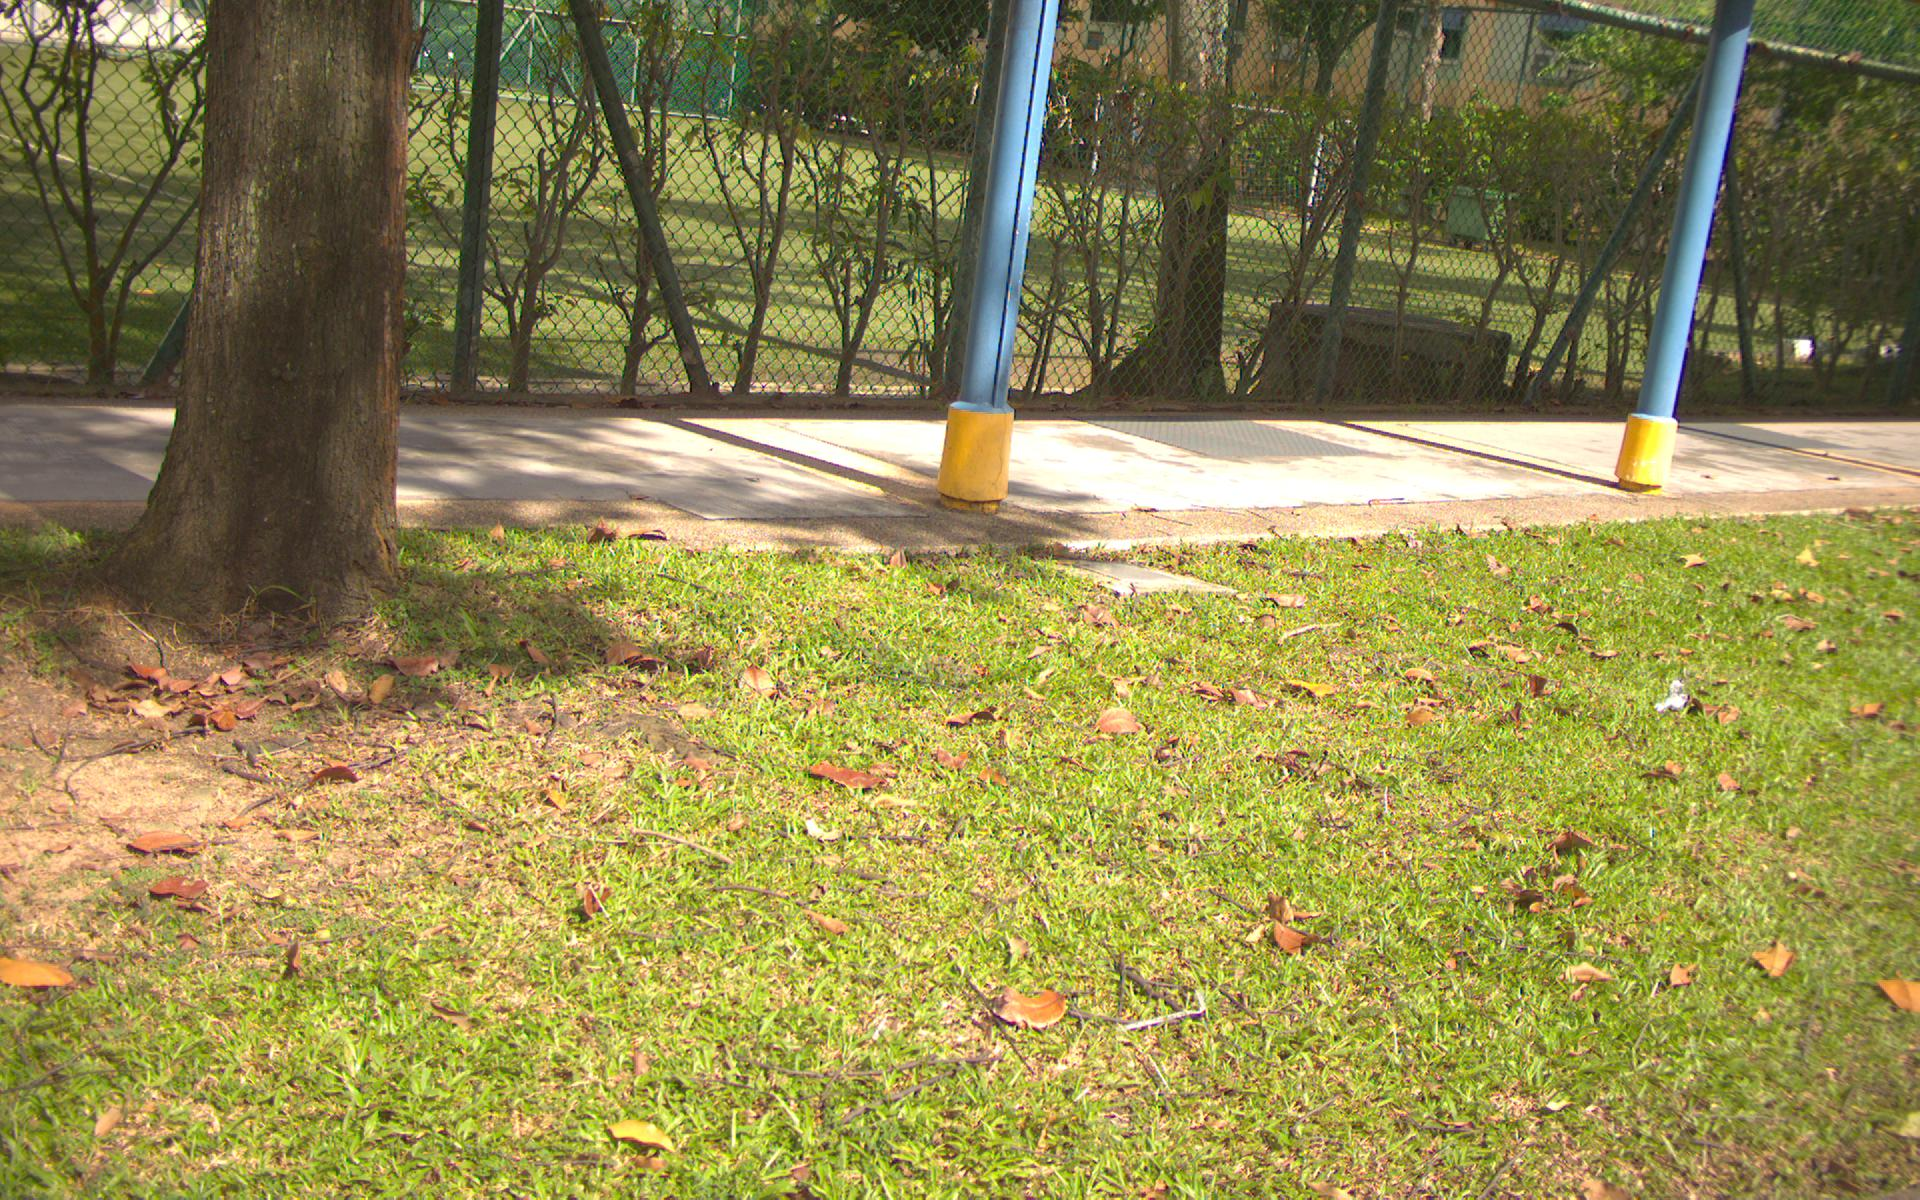pathway_low: (64, 422, 1920, 489)
road_turf_low: (54, 542, 1920, 1200)
